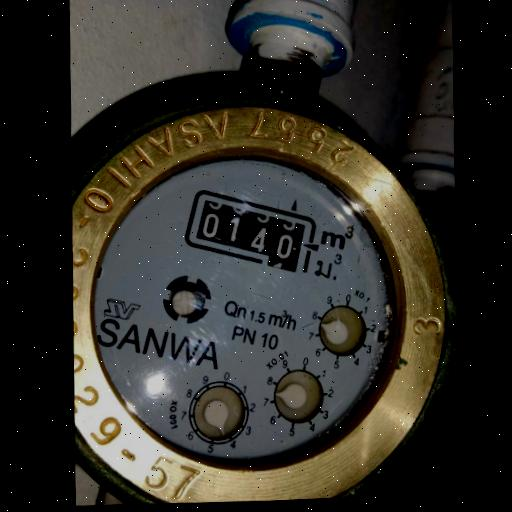0: (263, 217, 308, 275), (193, 198, 225, 244)
1: (213, 203, 252, 250)
4: (240, 210, 279, 258)
border_water_meter_number: (178, 184, 322, 281)
